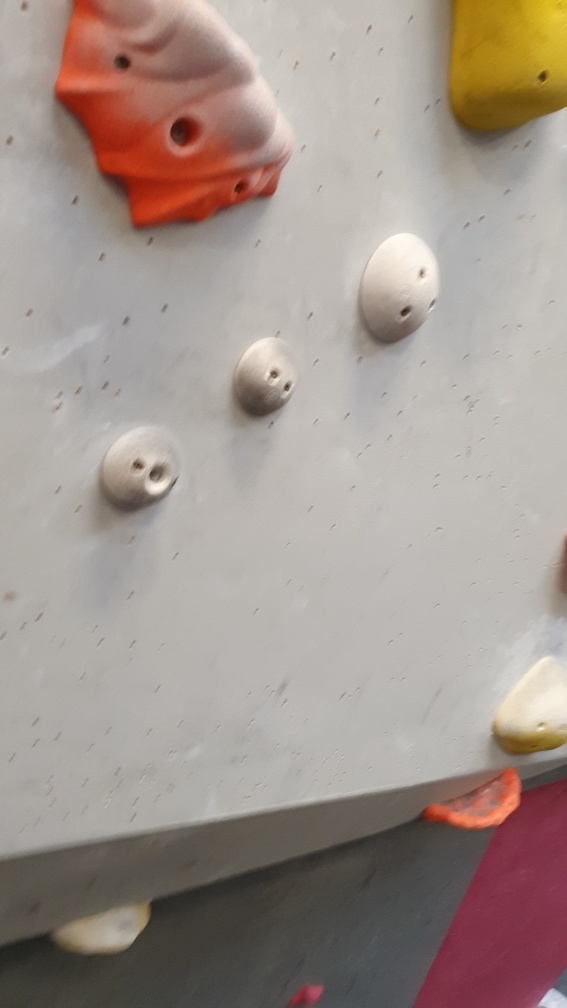Jug: (53, 1, 298, 234), (416, 764, 527, 837)
Sloper: (354, 225, 441, 350), (97, 419, 184, 521), (231, 332, 302, 419)
